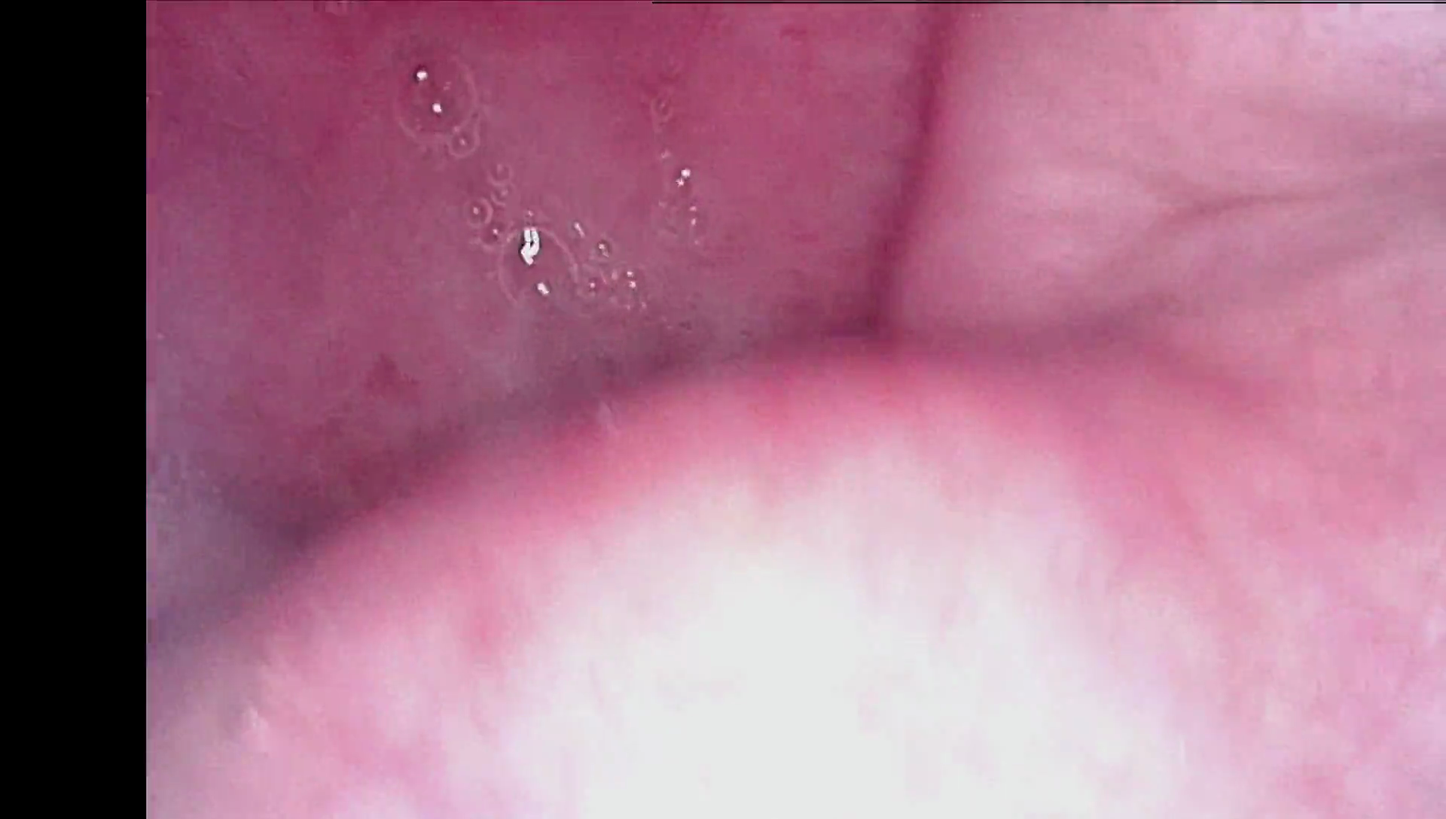close_wall: (474, 468, 1309, 819), (1196, 0, 1446, 130)
